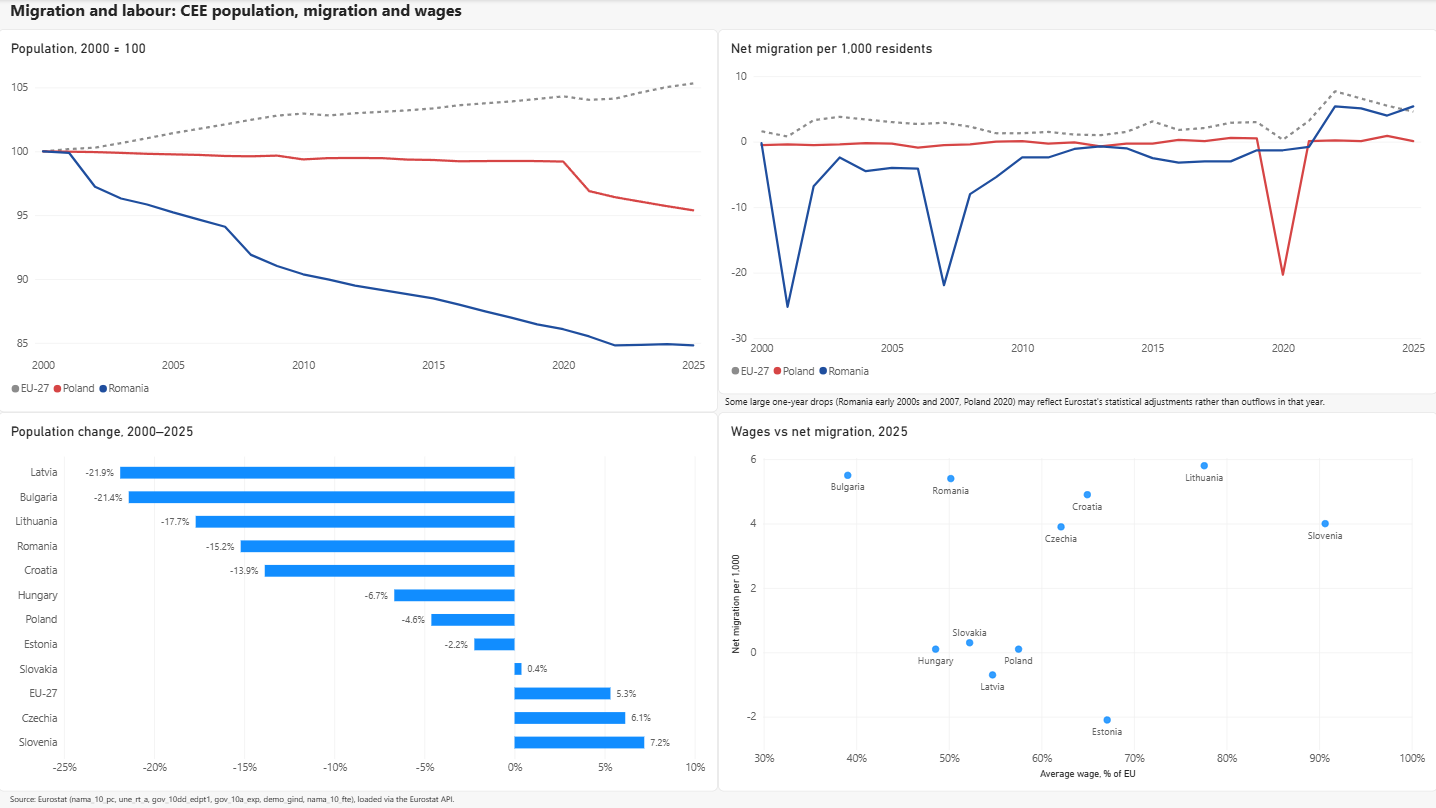

The page's visual inventory and layout, read from the dashboard file:
{"tool":"powerbi","page":{"name":"Migration and labour","canvas":[1920,1080],"ordinal":3},"visuals":[{"type":"textbox","box":[16,0,822.9,37.9],"z":0},{"type":"clusteredBarChart","title":"Population change, 2000–2025","fields":{"Category":["DimCountry.Country"],"Y":["FactPopulation.Population Change since 2000"]},"box":[0,550,960,506.3],"z":1000},{"type":"scatterChart","title":"Wages vs net migration, 2025","fields":{"Category":["DimCountry.Country"],"X":["FactWages.Wage vs EU"],"Y":["FactPopulation.Net Migration Rate"]},"box":[960,550,960,506.3],"z":2000},{"type":"lineChart","title":"Population, 2000 = 100","fields":{"Category":["DimYear.Year"],"Series":["DimCountry.Country"],"Y":["FactPopulation.Population Index"]},"box":[0,39.4,960,510.6],"z":3000},{"type":"lineChart","title":"Net migration per 1,000 residents","fields":{"Category":["DimYear.Year"],"Series":["DimCountry.Country"],"Y":["FactPopulation.Net Migration Rate"]},"box":[960,39.4,960,487.3],"z":4000},{"type":"textbox","box":[968.8,526.7,951.2,23.3],"z":5000},{"type":"textbox","box":[16,1056.3,1904,23.3],"z":6000}]}

Visuals, with their boxes in screenshot pixels (x1, y1, x2, y2), scaled from the page's 1920x1080 canvas onto the 1436x808 screenshot:
textbox: select_region(12, 0, 627, 28)
"Population change, 2000–2025" clusteredBarChart: select_region(0, 411, 718, 790)
"Wages vs net migration, 2025" scatterChart: select_region(718, 411, 1435, 790)
"Population, 2000 = 100" lineChart: select_region(0, 29, 718, 411)
"Net migration per 1,000 residents" lineChart: select_region(718, 29, 1435, 394)
textbox: select_region(725, 394, 1435, 411)
textbox: select_region(12, 790, 1435, 807)
